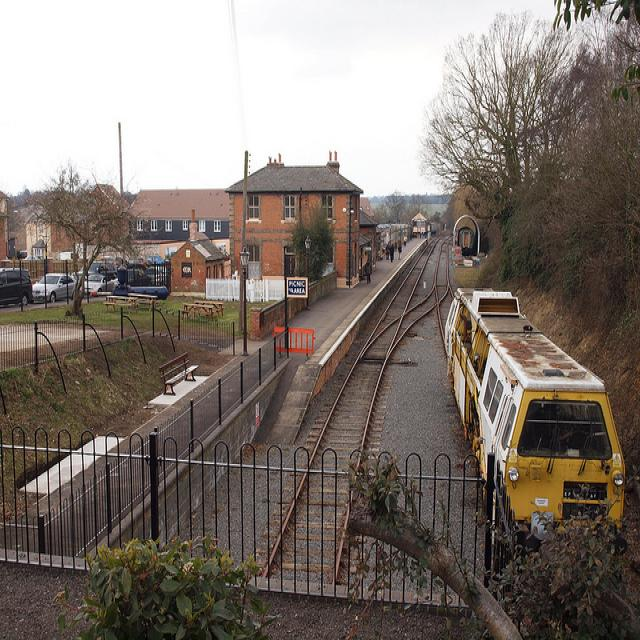Vehicle: (32, 273, 76, 303), (0, 269, 32, 305), (89, 262, 118, 282), (88, 274, 114, 292), (146, 255, 165, 267), (22, 256, 40, 260)
